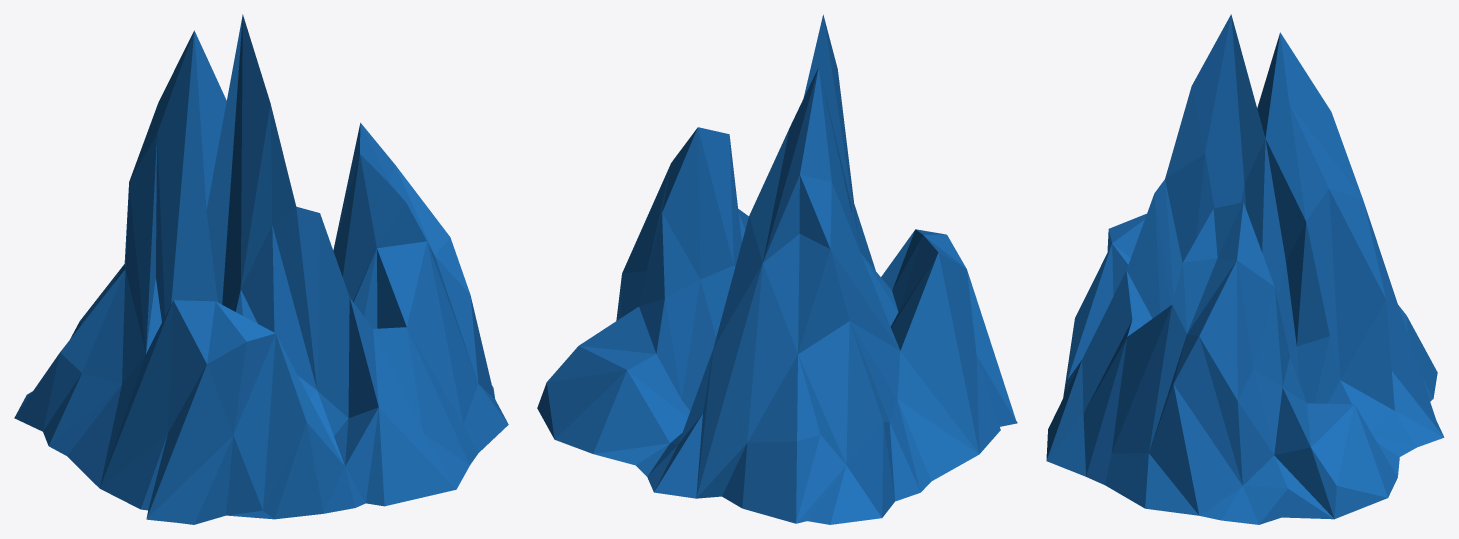
The model's file is rock1.obj.
3 renders of one model, left to right at view 1: azimuth 30°, elevation 25°; view 2: azimuth 150°, elevation 25°; view 3: azimuth 270°, elevation 25°, orthographic. The views are drawn at different scales.
Visible parts, largest first — view 1: SP_Mountain01_Mat; view 2: SP_Mountain01_Mat; view 3: SP_Mountain01_Mat.
Part boxes in pixels (<box>): SP_Mountain01_Mat: <box>14,14,508,524</box>; SP_Mountain01_Mat: <box>537,14,1017,524</box>; SP_Mountain01_Mat: <box>1046,14,1444,524</box>.
Size of the model in its own units: 129 by 130 by 118.
